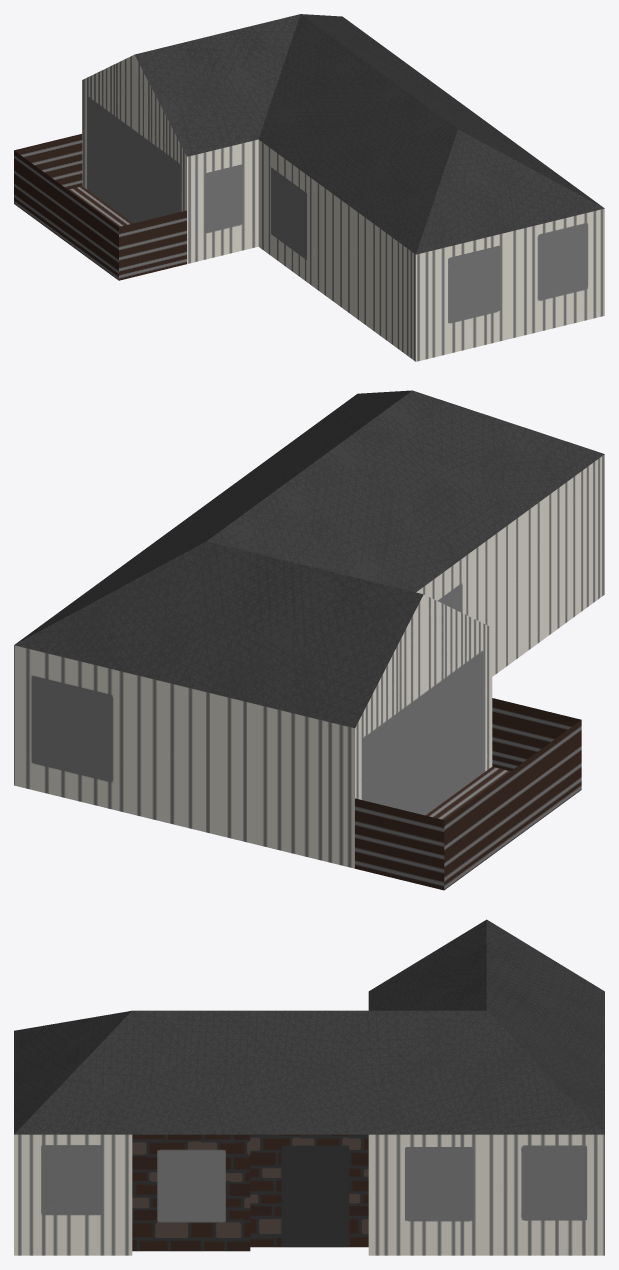
Rendered from House02.fbx.
The picture shows the model from 3 angles, top to bottom: view 1: azimuth 30°, elevation 25°; view 2: azimuth 150°, elevation 25°; view 3: azimuth 270°, elevation 25°; orthographic projection. The views are drawn at different scales.
Parts seen in each view (by area): view 1: House02; view 2: House02; view 3: House02.
Boxes of the visible parts, bbox=[...] form: House02: bbox=[14, 14, 604, 361]; House02: bbox=[14, 390, 604, 890]; House02: bbox=[14, 919, 604, 1255].
Size of the model in its own units: 6.98 by 3.47 by 9.65.
Materials: 1 (1 with a texture image).
